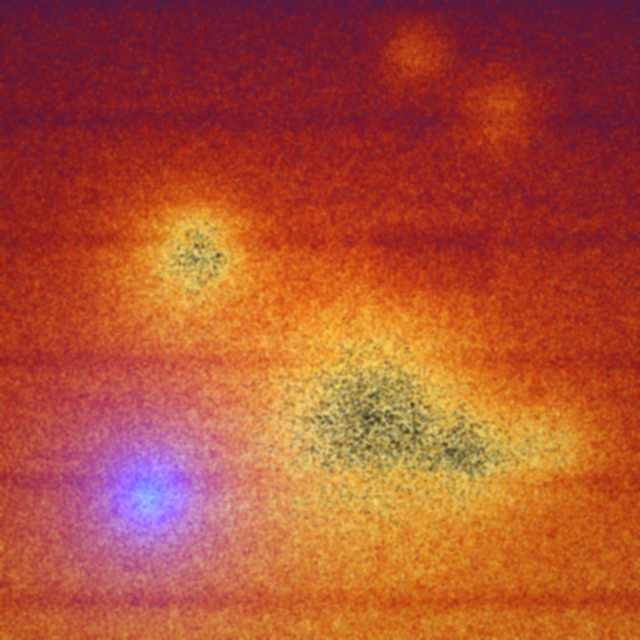nozzle: (106, 455, 192, 534)
